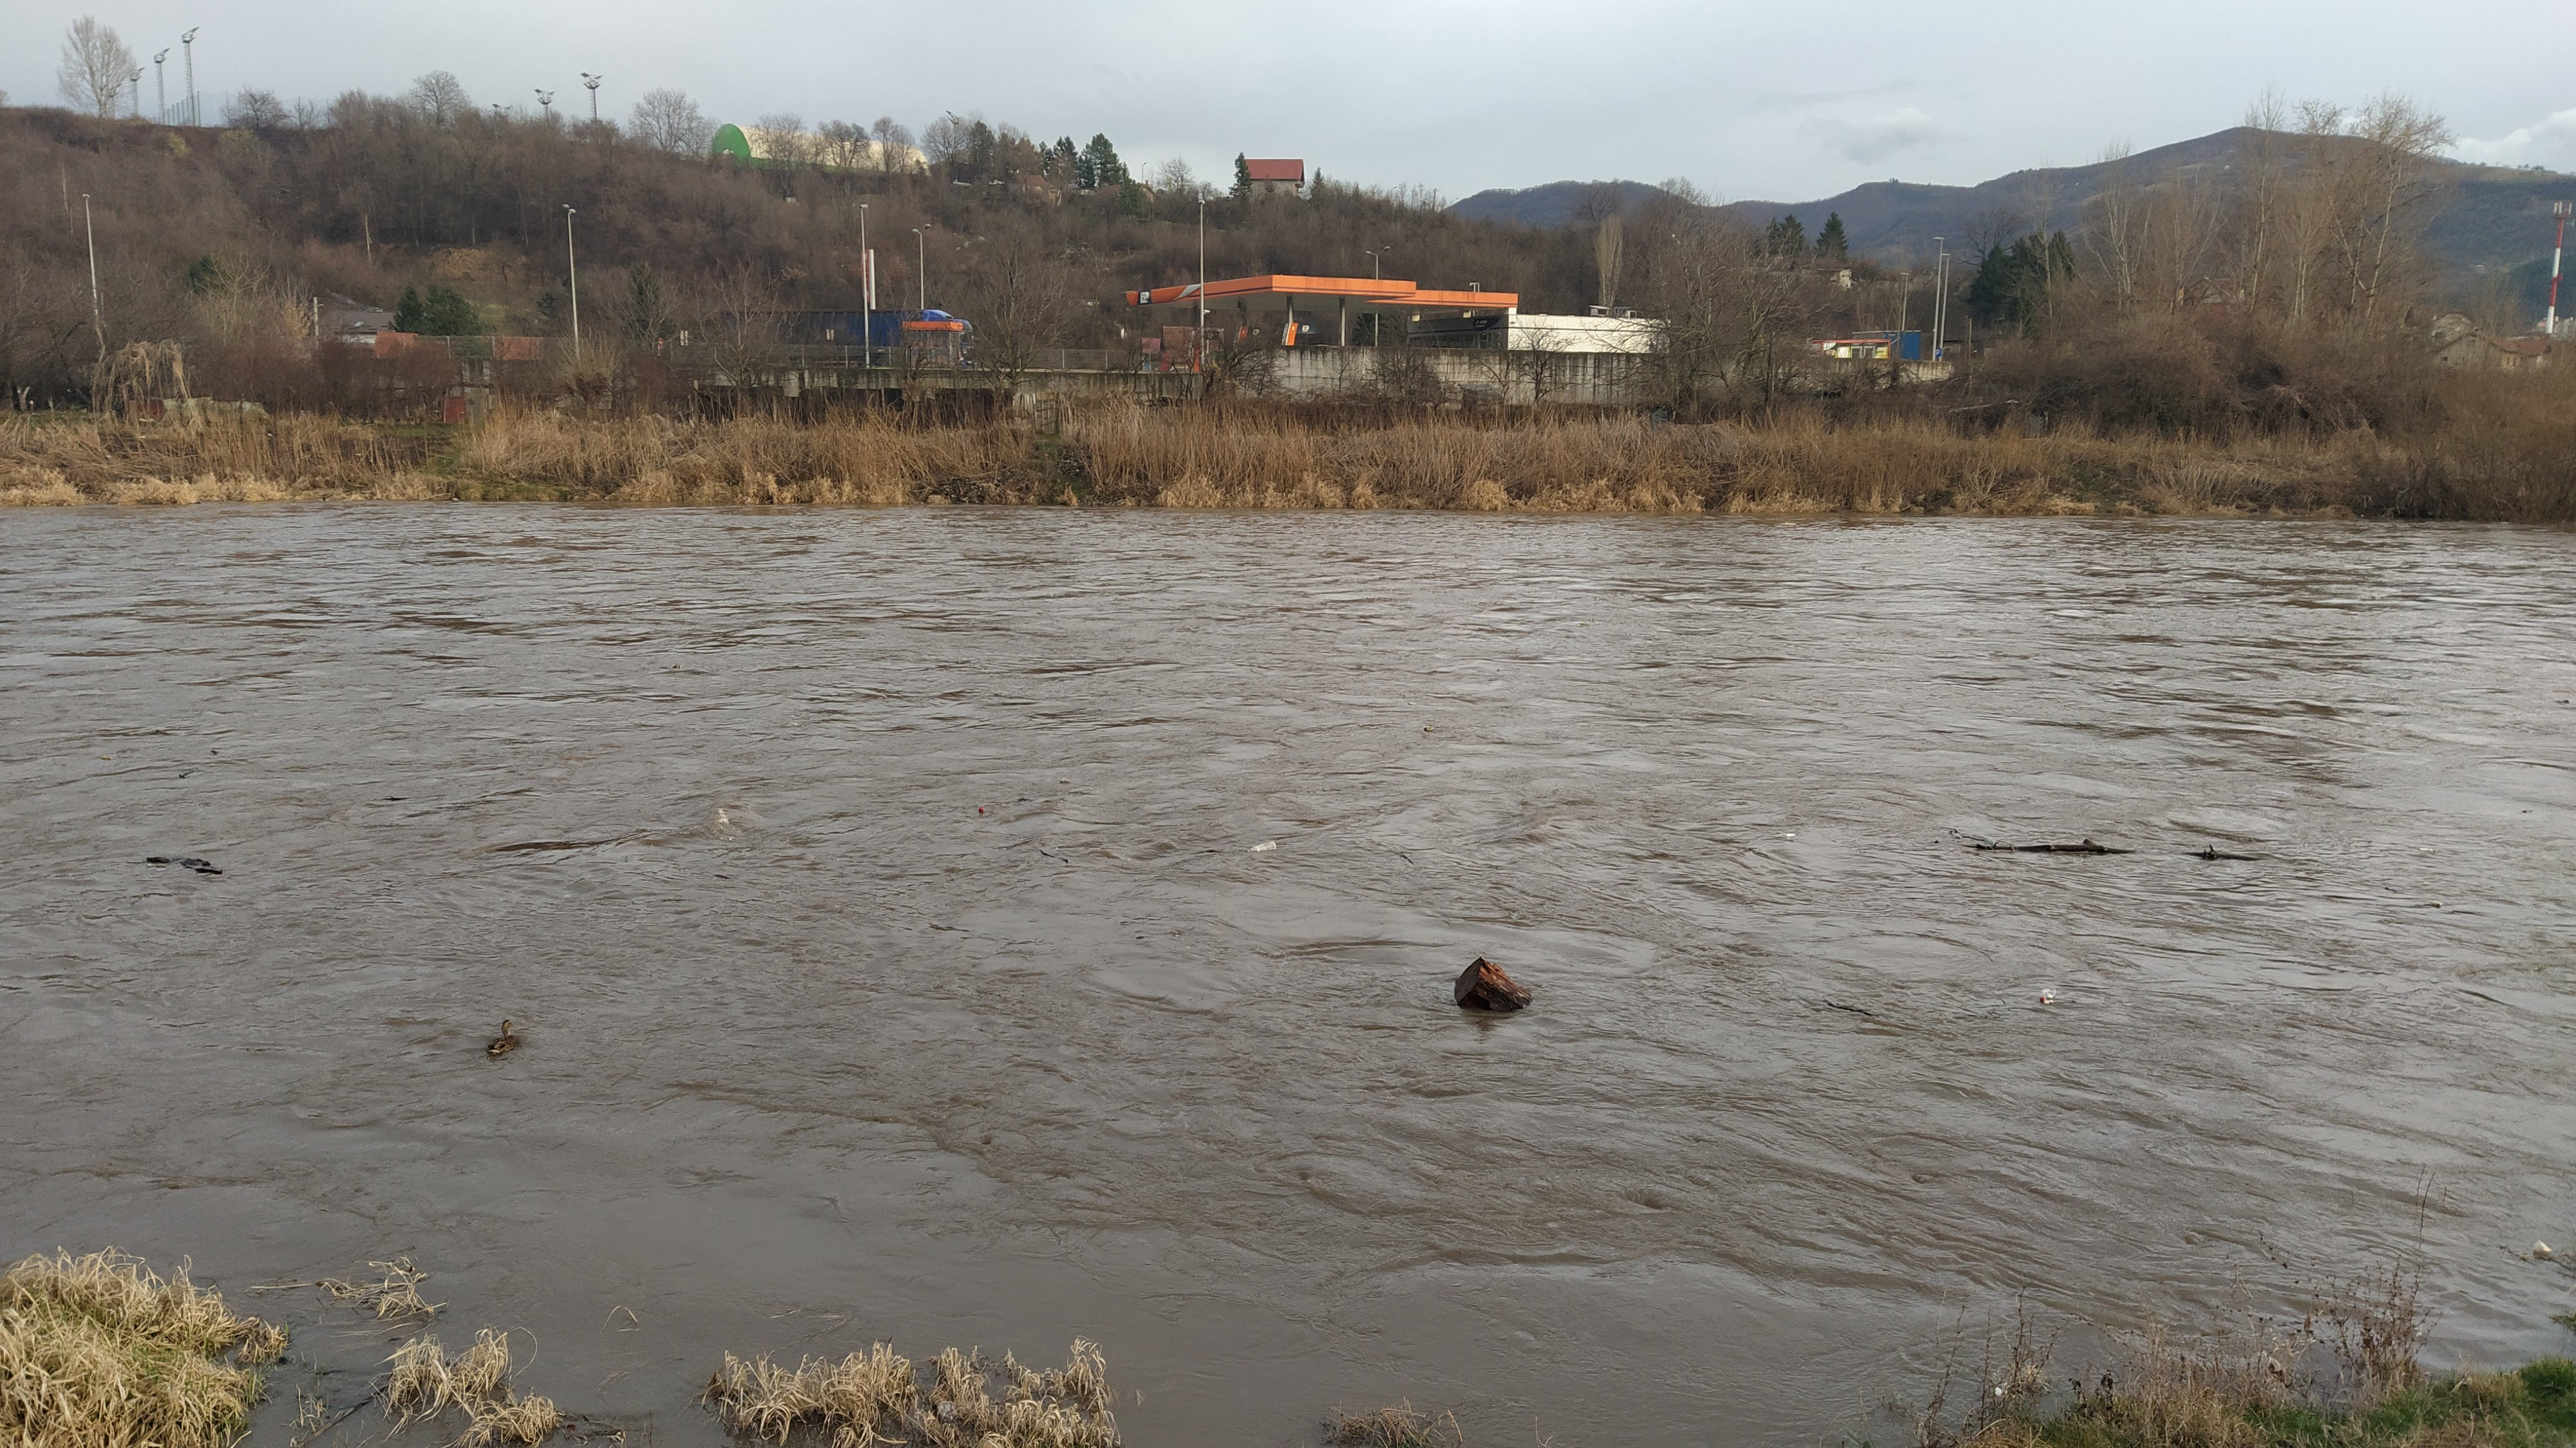Plastic Bottle: (931, 1393, 954, 1420), (1246, 841, 1276, 851), (977, 804, 1008, 813), (2038, 988, 2056, 1004), (2534, 1239, 2551, 1252), (2419, 848, 2434, 853), (1497, 667, 1511, 673), (2557, 699, 2569, 703)
